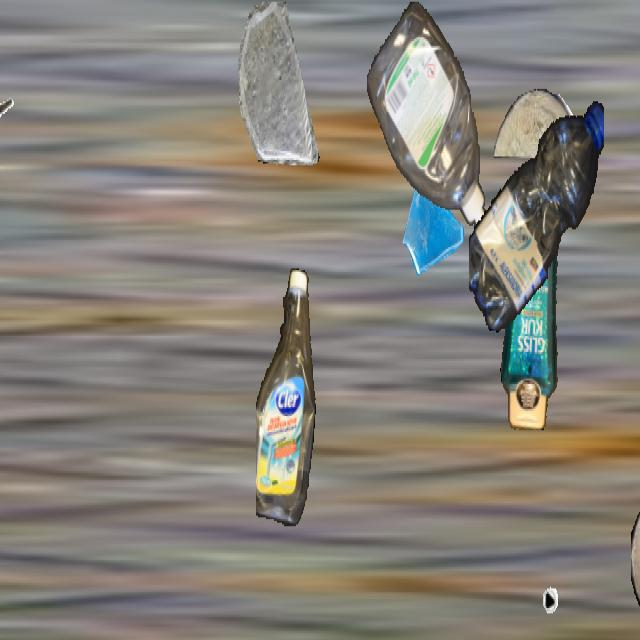glass: (233, 2, 325, 165), (401, 167, 467, 285)
metal: (505, 516, 565, 622), (0, 74, 17, 178)
plastic: (469, 89, 603, 338), (367, 2, 487, 233), (496, 176, 568, 428), (256, 268, 316, 524)
wood: (494, 89, 578, 156), (631, 500, 640, 638)
